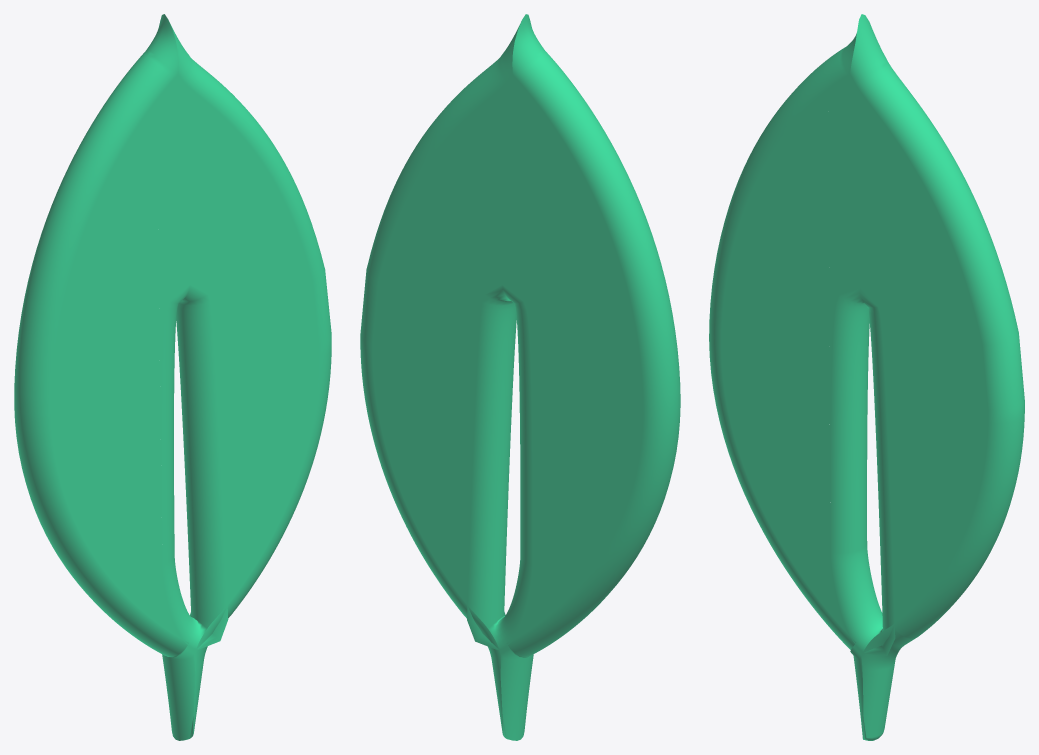
The model's file is mongo.gltf.
3 views of the same model, side by side, from view 1: azimuth 30°, elevation 25°; view 2: azimuth 150°, elevation 25°; view 3: azimuth 330°, elevation 25° (orthographic).
Visible parts, largest first — view 1: Shape 1; view 2: Shape 1; view 3: Shape 1.
Boxes of the visible parts, x1,y1,x2,y2 form: Shape 1: (14,14,331,740); Shape 1: (360,14,680,740); Shape 1: (709,14,1024,740).
Size of the model in its own units: 3.31 by 7.37 by 0.5009.
